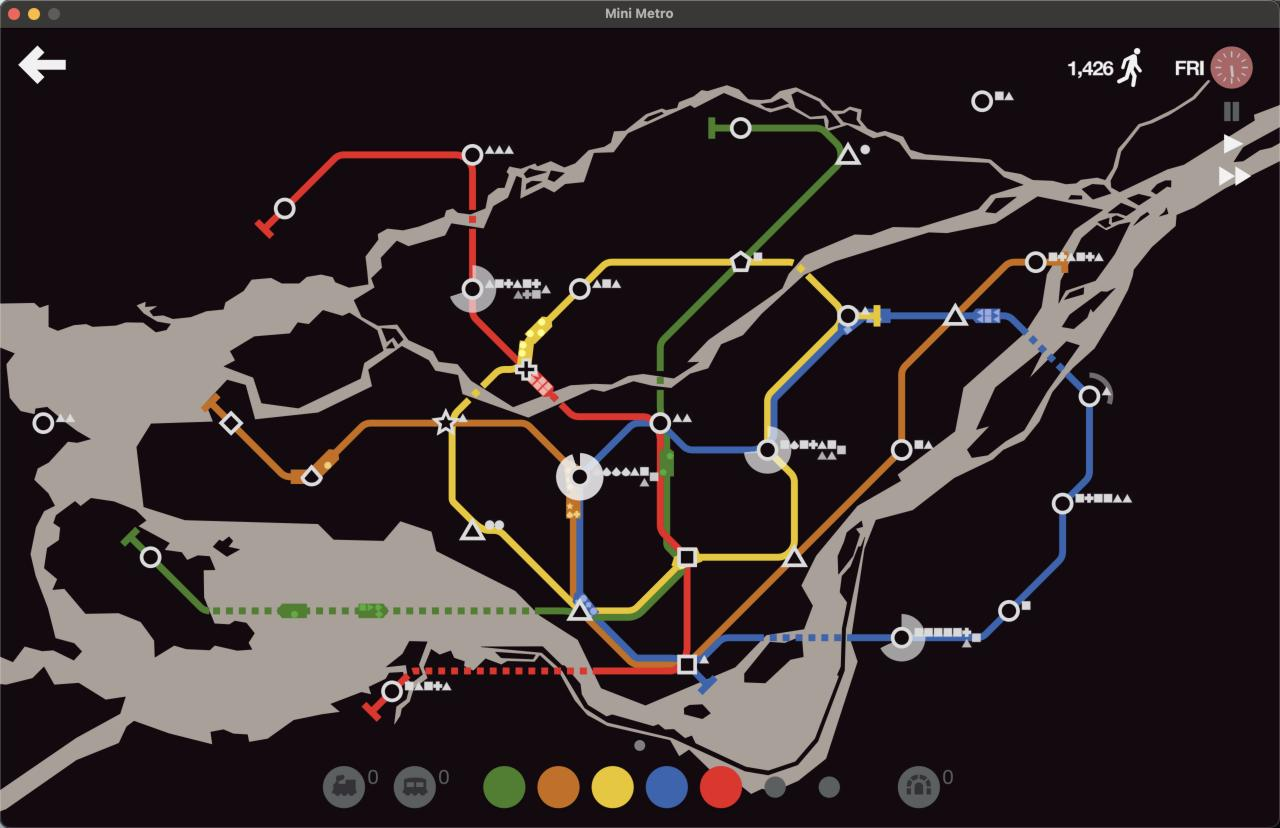CIRCLE: (460, 276, 486, 301), (380, 679, 405, 703), (837, 304, 861, 329), (32, 410, 56, 434), (1051, 492, 1075, 516), (648, 411, 672, 435), (1078, 384, 1102, 408), (890, 626, 914, 650), (273, 196, 297, 219), (729, 116, 752, 140), (1024, 250, 1047, 274), (970, 89, 993, 113), (890, 438, 913, 462), (461, 143, 484, 166), (998, 599, 1021, 622), (139, 546, 162, 568), (569, 278, 591, 300), (757, 438, 778, 460), (571, 468, 588, 484)
CROSS: (515, 358, 536, 380)
GEM: (217, 410, 244, 436)
PENTAGON: (730, 251, 753, 272)
SQUARE: (677, 653, 698, 674), (677, 547, 698, 567)
STAR: (431, 408, 465, 436)
TRIANGLE: (567, 595, 597, 621), (834, 141, 862, 166), (943, 302, 968, 327), (781, 545, 808, 568), (459, 518, 486, 541)
WEDGE: (299, 464, 323, 487)
